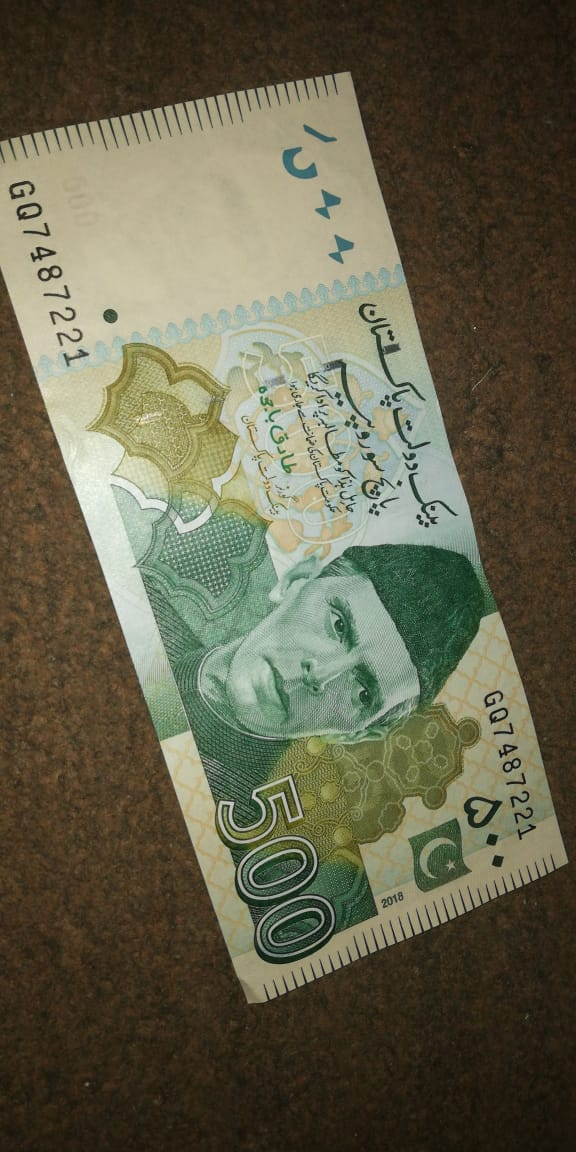500 rupee: (4, 78, 560, 1025)
